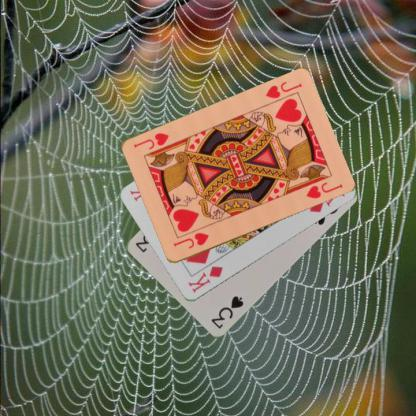3s: (208, 293, 245, 330)
Jh: (263, 79, 303, 101), (170, 230, 210, 250)
Kd: (185, 263, 224, 294)
